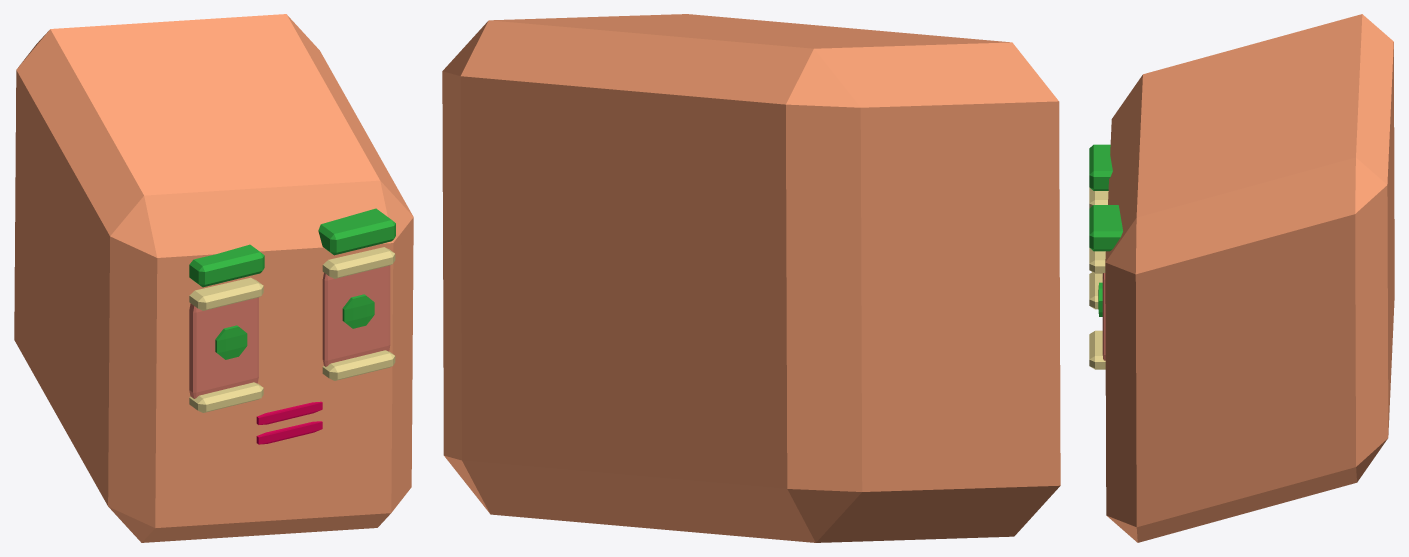
The model's file is boss04.glb.
3 views of the same model, side by side, from view 1: azimuth 30°, elevation 25°; view 2: azimuth 150°, elevation 25°; view 3: azimuth 270°, elevation 25° (orthographic). The views are drawn at different scales.
Visible parts, largest first — view 1: head, Cube.002, EyeBrown, lip_up, lip_down', eye, eyes, mouth', mouth; view 2: head; view 3: head, EyeBrown, lip_down', lip_up.
Part boxes in pixels (box(x1,y1,x2,y2)): head: box(14, 14, 413, 542); Cube.002: box(189, 265, 390, 398); EyeBrown: box(189, 208, 395, 287); lip_up: box(189, 247, 395, 310); lip_down': box(189, 350, 395, 412); eye: box(342, 294, 374, 328); eyes: box(215, 325, 247, 359); mouth': box(256, 421, 322, 444); mouth: box(256, 401, 322, 424); head: box(442, 14, 1060, 542); head: box(1105, 14, 1394, 542); EyeBrown: box(1089, 144, 1122, 251); lip_down': box(1089, 272, 1105, 369); lip_up: box(1089, 187, 1108, 273).
Bounding box in the file's own units: 1.95 × 2.66 × 1.7.
